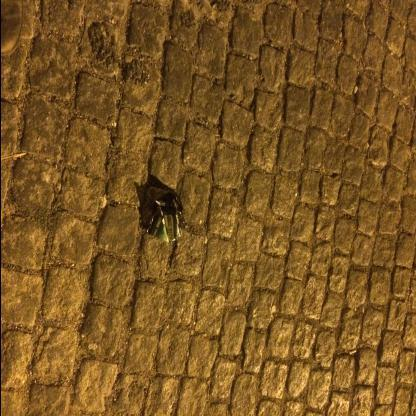plastik: (147, 194, 188, 244)
